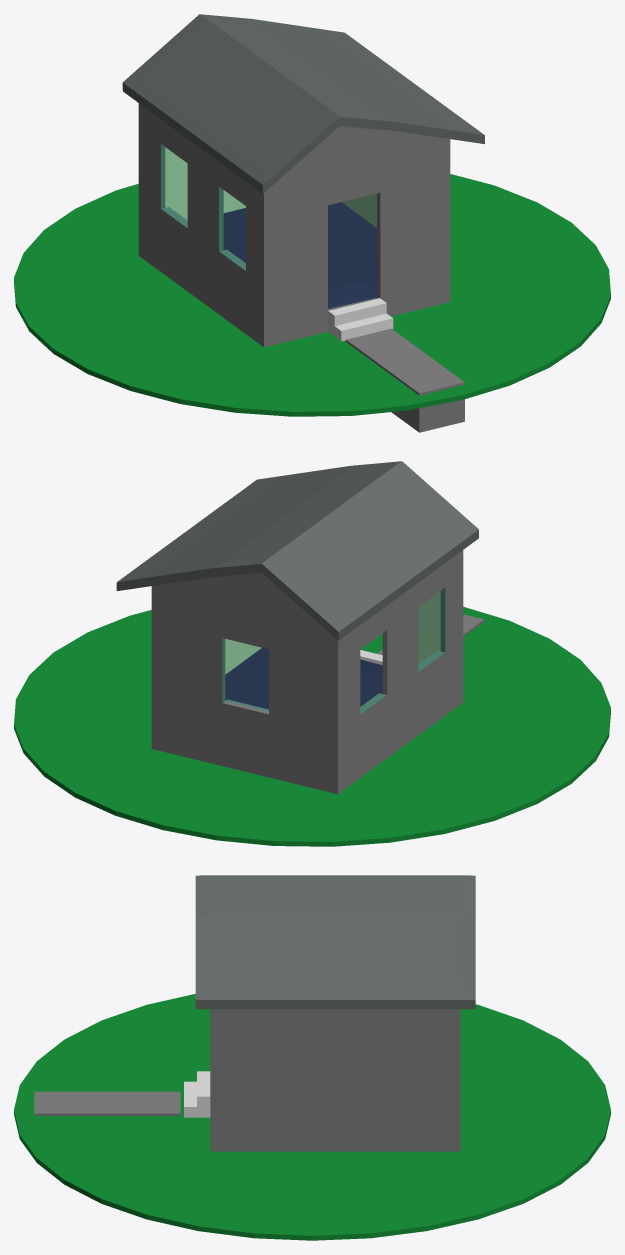
File: Test_Room2.glb
3 views of the same model, one above another, from view 1: azimuth 30°, elevation 25°; view 2: azimuth 150°, elevation 25°; view 3: azimuth 270°, elevation 25° (orthographic).
Parts seen in each view (by area): view 1: Cube, Circle, Cube.001; view 2: Cube, Circle; view 3: Circle, Cube, Cube.001.
Part boxes in pixels (bbox=[...]): Cube: bbox=[122, 14, 484, 347]; Circle: bbox=[14, 174, 610, 416]; Cube.001: bbox=[346, 328, 464, 432]; Cube: bbox=[116, 461, 478, 794]; Circle: bbox=[14, 606, 610, 846]; Circle: bbox=[14, 994, 610, 1240]; Cube: bbox=[184, 875, 475, 1151]; Cube.001: bbox=[34, 1091, 180, 1115].
Bounding box in the file's own units: 10.17 × 4.82 × 10.17.
